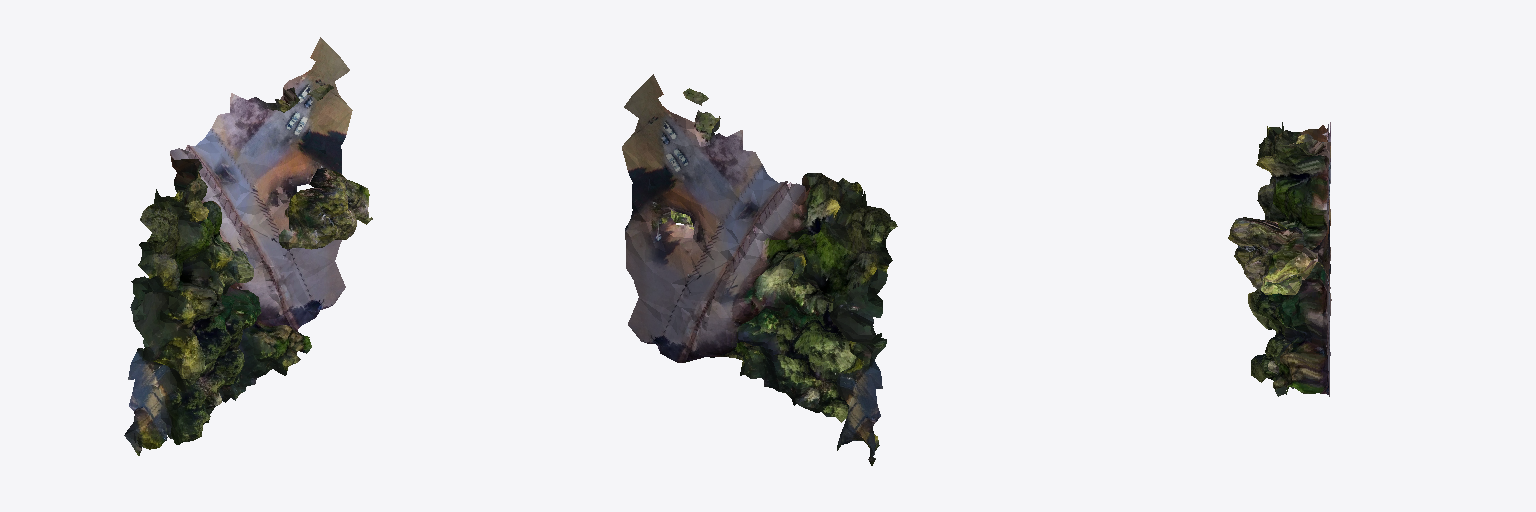
3 renders of one model, left to right at view 1: azimuth 30°, elevation 25°; view 2: azimuth 150°, elevation 25°; view 3: azimuth 270°, elevation 25°, orthographic.
Bounding box in the file's own units: 70.87 × 99.7 × 26.08.
Materials: 1 (1 with a texture image).